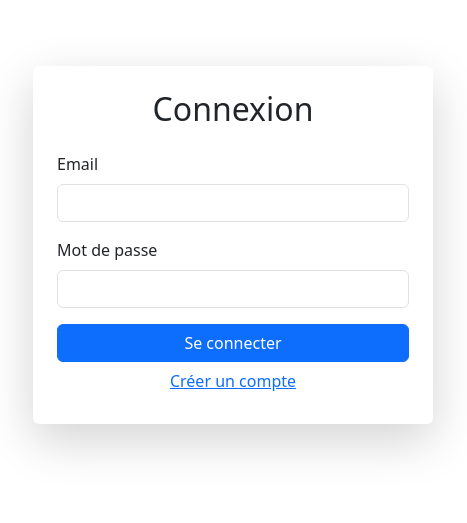
Test: Login › should show an error message when login fails
In the field labelled "Email": (233,203) 57,184 -> 409,222, type "test@example.com"
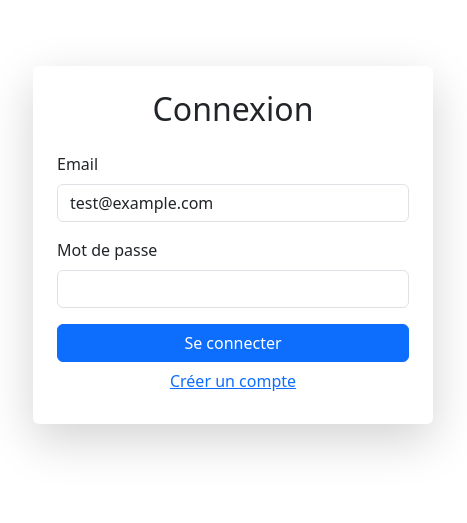
In the password field labelled "Mot de passe": (233,289) 57,270 -> 409,308, type "wrongpassword"
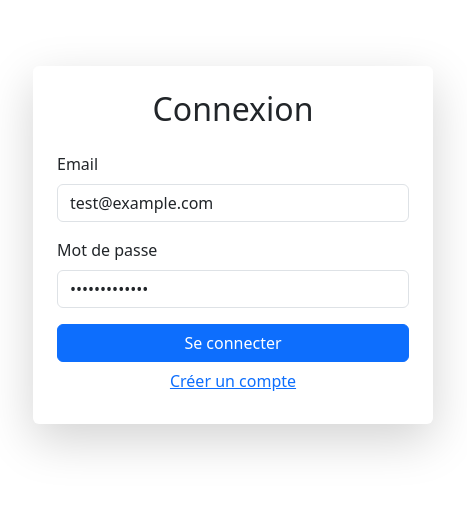
Submit the form with test id "login-form", box 57,152 -> 409,400
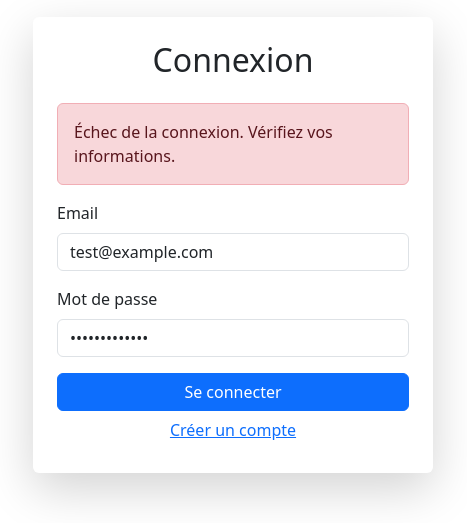
Expected: the text "Échec de la connexion. Vérifiez vos informations." is shown, 57,103 -> 409,185
